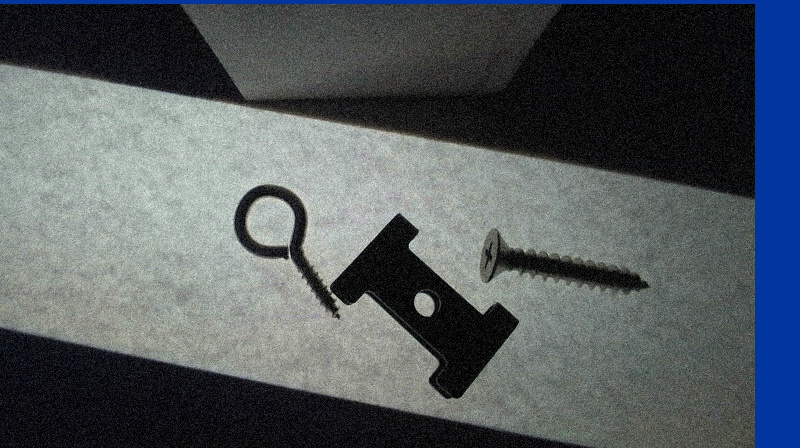O001: (231, 181, 342, 320)
O002: (328, 212, 518, 401)
S001: (479, 225, 649, 296)
